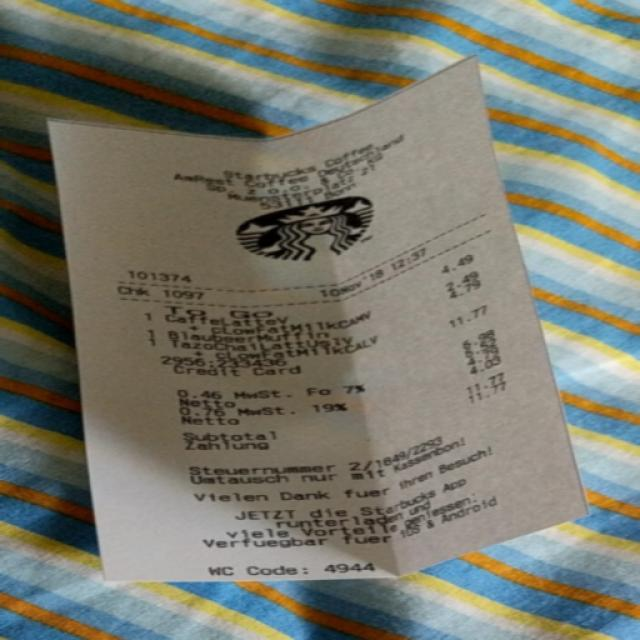document: (50, 58, 586, 580)
